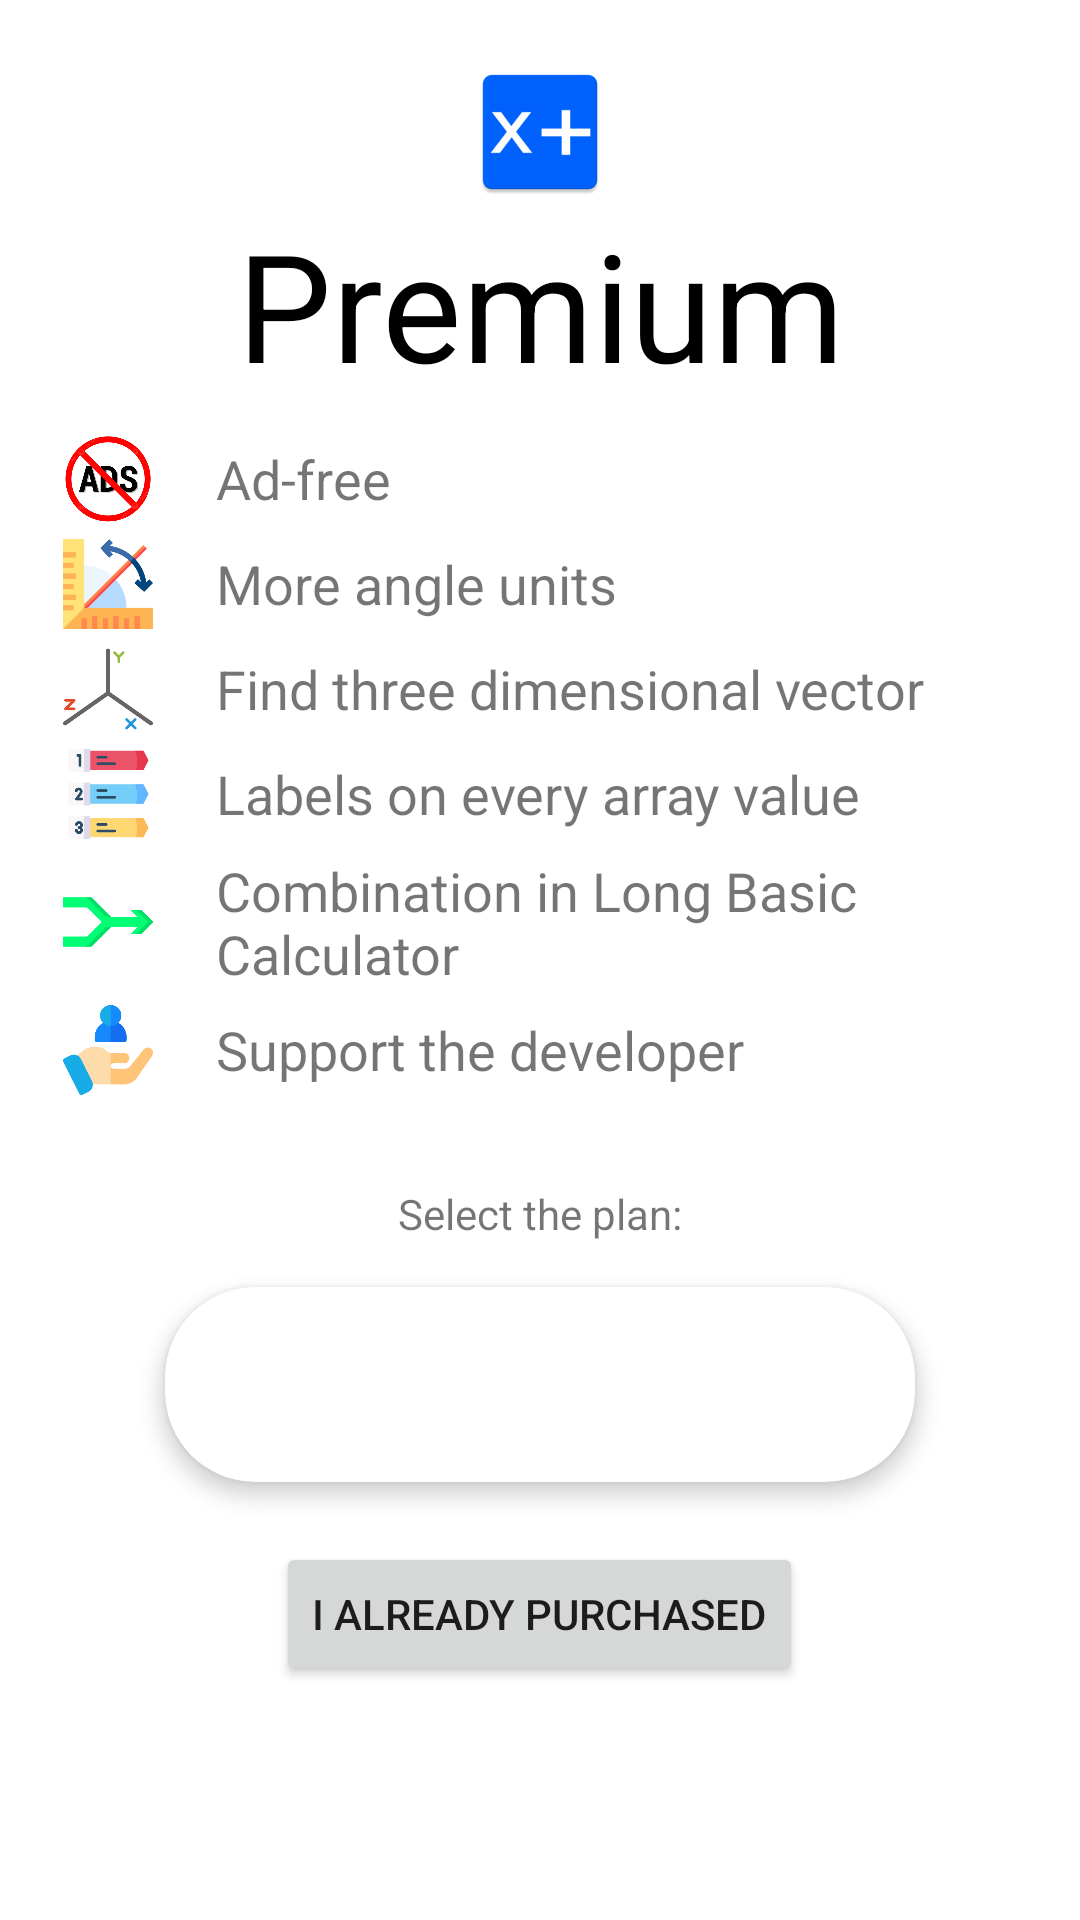

Named icons in this screenshot (1080px x 1920px) and their centers, point (x, y):
combine: point (108, 922)
customer: point (108, 1050)
list: point (112, 794)
